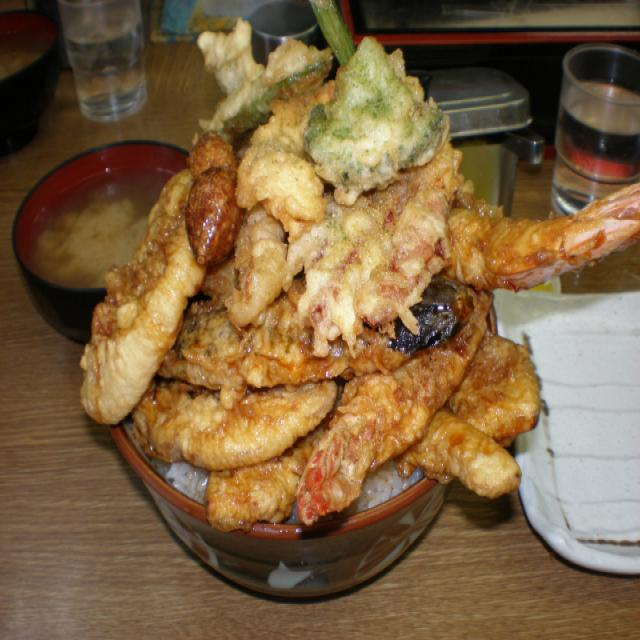汤锅炖物: (8, 133, 212, 320)
熟制海鲜: (80, 0, 528, 597)
